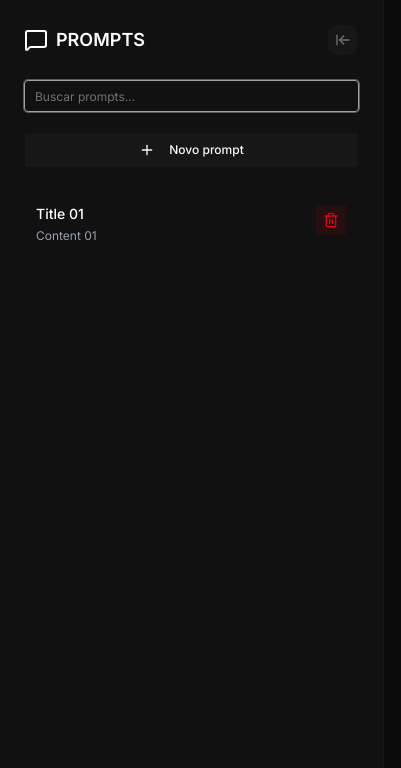
Test case: SidebarContent › Colapsar / Expandir › deveria exibir o botão de criar um novo prompt na sidebar minimizada
Click the button named "minimizar sidebar" at [343, 40], box [327,24,359,56]
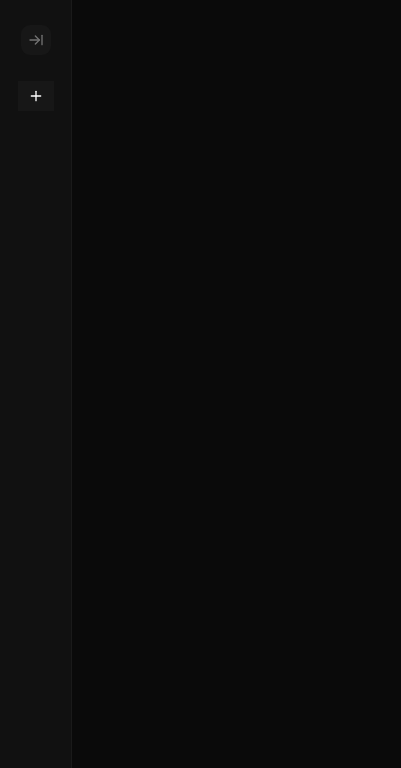
Check: the button named "Novo prompt" is shown, box [16,80,54,112]
